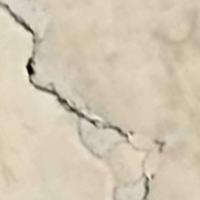crack: (1, 0, 134, 154)
